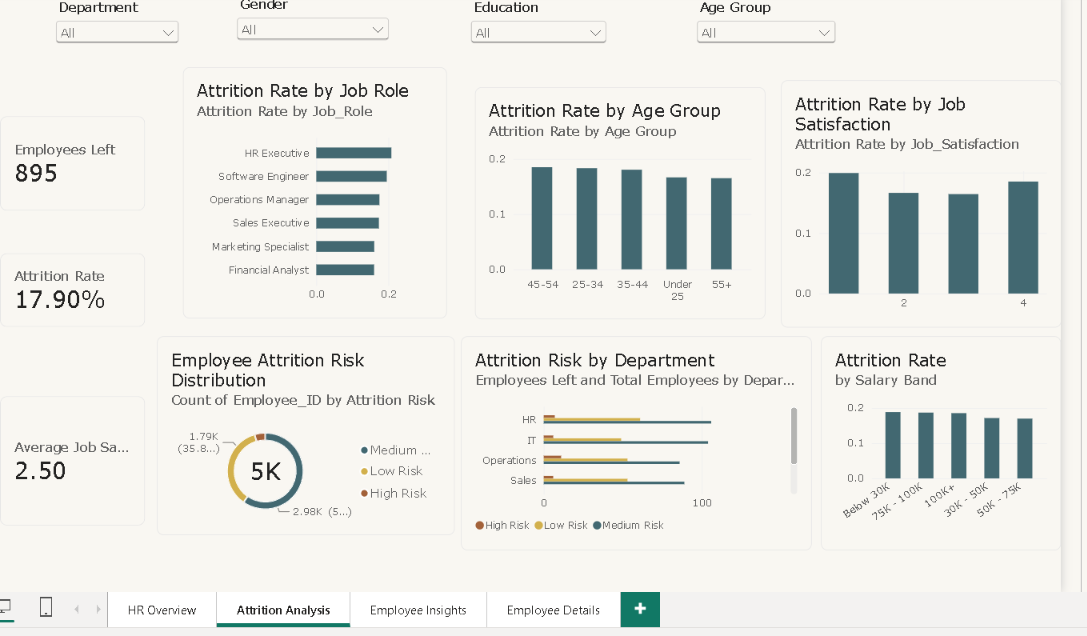

What the dashboard file says about the page in this screenshot:
{"tool":"powerbi","page":{"name":"Attrition Analysis","canvas":[1280,720],"ordinal":1},"visuals":[{"type":"clusteredBarChart","title":"Attrition Rate by Job Role","fields":{"Category":["hr_employees.Job_Role"],"Y":["hr_employees.Attrition Rate"]},"box":[220.2,87.1,318.5,303.5],"z":0},{"type":"columnChart","title":"Attrition Rate by Age Group","fields":{"Category":["hr_employees.Age Group"],"Y":["hr_employees.Attrition Rate"]},"box":[573.5,110.7,350.8,279.9],"z":1000},{"type":"columnChart","fields":{"Category":["hr_employees.Salary Band"],"Y":["hr_employees.Attrition Rate"]},"box":[990.2,411.8,289.8,258.7],"z":2000},{"type":"clusteredColumnChart","title":"Attrition Rate by Job Satisfaction","fields":{"Category":["hr_employees.Job_Satisfaction"],"Y":["hr_employees.Attrition Rate"]},"box":[941.7,102,338.4,298.6],"z":3000},{"type":"cardVisual","fields":{"Data":["hr_employees.Employees Left"]},"box":[0,145.5,175.4,114.4],"z":4000},{"type":"cardVisual","fields":{"Data":["hr_employees.Attrition Rate"]},"box":[0,311,175.4,89.6],"z":5000},{"type":"cardVisual","fields":{"Data":["hr_employees.Average Job Satisfaction"]},"box":[0,483.9,175.4,156.7],"z":6000},{"type":"slicer","fields":{"Values":["hr_employees.Department"]},"box":[62.2,3.7,158,61],"z":7000},{"type":"slicer","fields":{"Values":["hr_employees.Gender"]},"box":[281.1,0,192.8,61],"z":8000},{"type":"slicer","fields":{"Values":["hr_employees.Education"]},"box":[563.5,3.7,172.9,57.2],"z":9000},{"type":"slicer","fields":{"Values":["hr_employees.Age Group"]},"box":[835.9,3.7,176.6,57.2],"z":10000},{"type":"donutChart","title":"Employee Attrition Risk Distribution","fields":{"Category":["hr_employees.Attrition Risk"],"Y":["CountNonNull(hr_employees.Employee_ID)"]},"box":[189.1,411.8,359.5,240.1],"z":11000},{"type":"clusteredBarChart","title":"Attrition Risk by Department","fields":{"Category":["hr_employees.Department"],"Series":["hr_employees.Attrition Risk"],"Y":["hr_employees.Employees Left"]},"box":[556,411.8,422.9,258.7],"z":12000}]}

Visuals, with their boxes on the page's 1280x720 design canvas (x1, y1, x2, y2). These are canvas units, not pixel positions in the 1087x636 screenshot, which may show the page scaled, cropped or inside an application window:
"Attrition Rate by Job Role" clusteredBarChart: [220, 87, 539, 391]
"Attrition Rate by Age Group" columnChart: [574, 111, 924, 391]
columnChart - hr_employees.Salary Band x hr_employees.Attrition Rate: [990, 412, 1280, 670]
"Attrition Rate by Job Satisfaction" clusteredColumnChart: [942, 102, 1280, 401]
cardVisual - hr_employees.Employees Left: [0, 146, 175, 260]
cardVisual - hr_employees.Attrition Rate: [0, 311, 175, 401]
cardVisual - hr_employees.Average Job Satisfaction: [0, 484, 175, 641]
slicer - hr_employees.Department: [62, 4, 220, 65]
slicer - hr_employees.Gender: [281, 0, 474, 61]
slicer - hr_employees.Education: [564, 4, 736, 61]
slicer - hr_employees.Age Group: [836, 4, 1012, 61]
"Employee Attrition Risk Distribution" donutChart: [189, 412, 549, 652]
"Attrition Risk by Department" clusteredBarChart: [556, 412, 979, 670]
